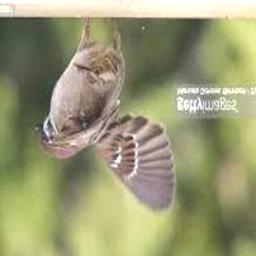Sparrow: (30, 17, 175, 216)
